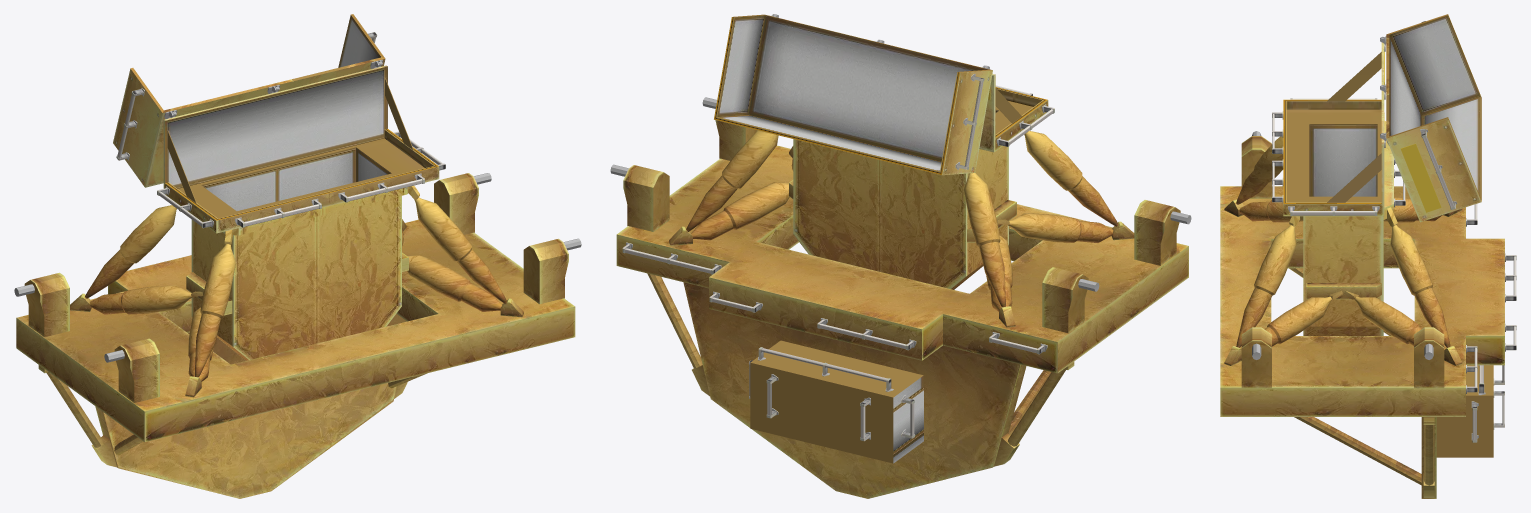
The model's file is slic-carrier.glb.
3 renders of one model, left to right at view 1: azimuth 30°, elevation 25°; view 2: azimuth 150°, elevation 25°; view 3: azimuth 270°, elevation 25°, orthographic. The views are drawn at different scales.
Parts seen in each view (by area): view 1: spaceshutt; view 2: spaceshutt; view 3: spaceshutt.
Boxes of the visible parts, bbox=[...] form: spaceshutt: bbox=[14, 14, 581, 498]; spaceshutt: bbox=[610, 14, 1191, 498]; spaceshutt: bbox=[1220, 14, 1516, 498].
Bounding box in the file's own units: 4.5 × 4.04 × 2.55.
2 materials, 2 textured.
